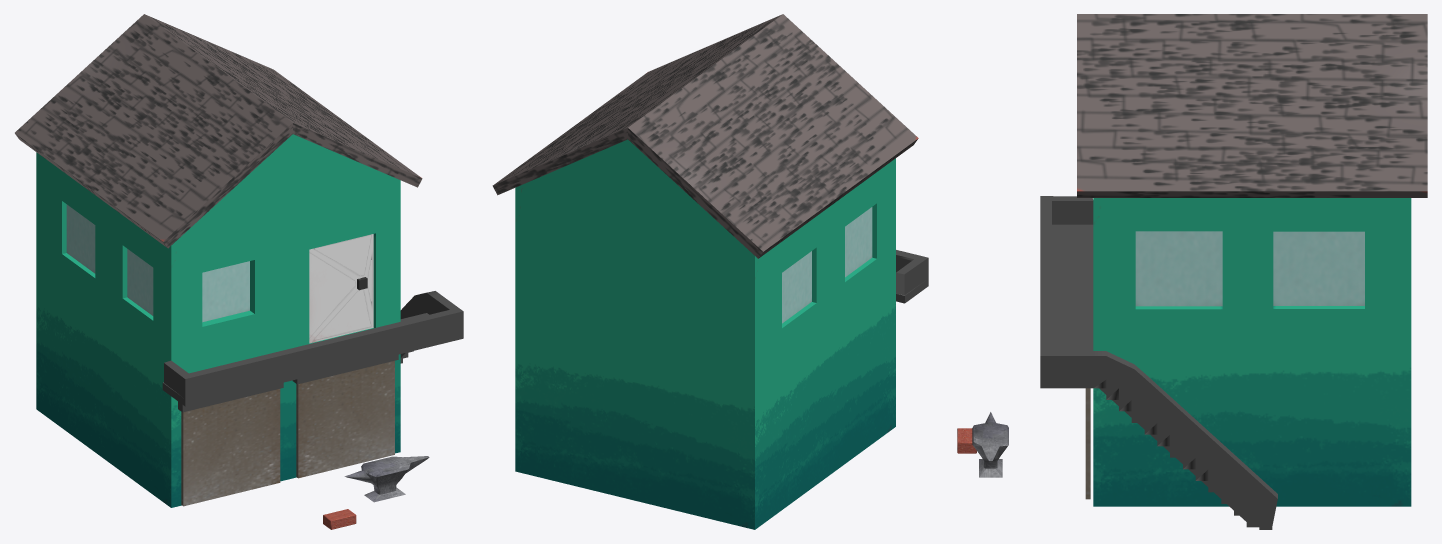
The model's file is House_4_anvil_and_brick.fbx.
The picture shows the model from 3 angles, left to right: view 1: azimuth 30°, elevation 25°; view 2: azimuth 150°, elevation 25°; view 3: azimuth 270°, elevation 25°; orthographic projection. The views are drawn at different scales.
Parts seen in each view (by area): view 1: Cube, Cube_1, Cube_2; view 2: Cube; view 3: Cube, Cube_1.
Part boxes in pixels (<box>): Cube: <box>15,14,463,507</box>; Cube_1: <box>344,456,429,502</box>; Cube_2: <box>323,509,356,529</box>; Cube: <box>492,14,928,529</box>; Cube: <box>1040,14,1427,529</box>; Cube_1: <box>972,412,1008,477</box>.
Bounding box in the file's own units: 606 × 748 × 737.
3 materials, 3 textured.
